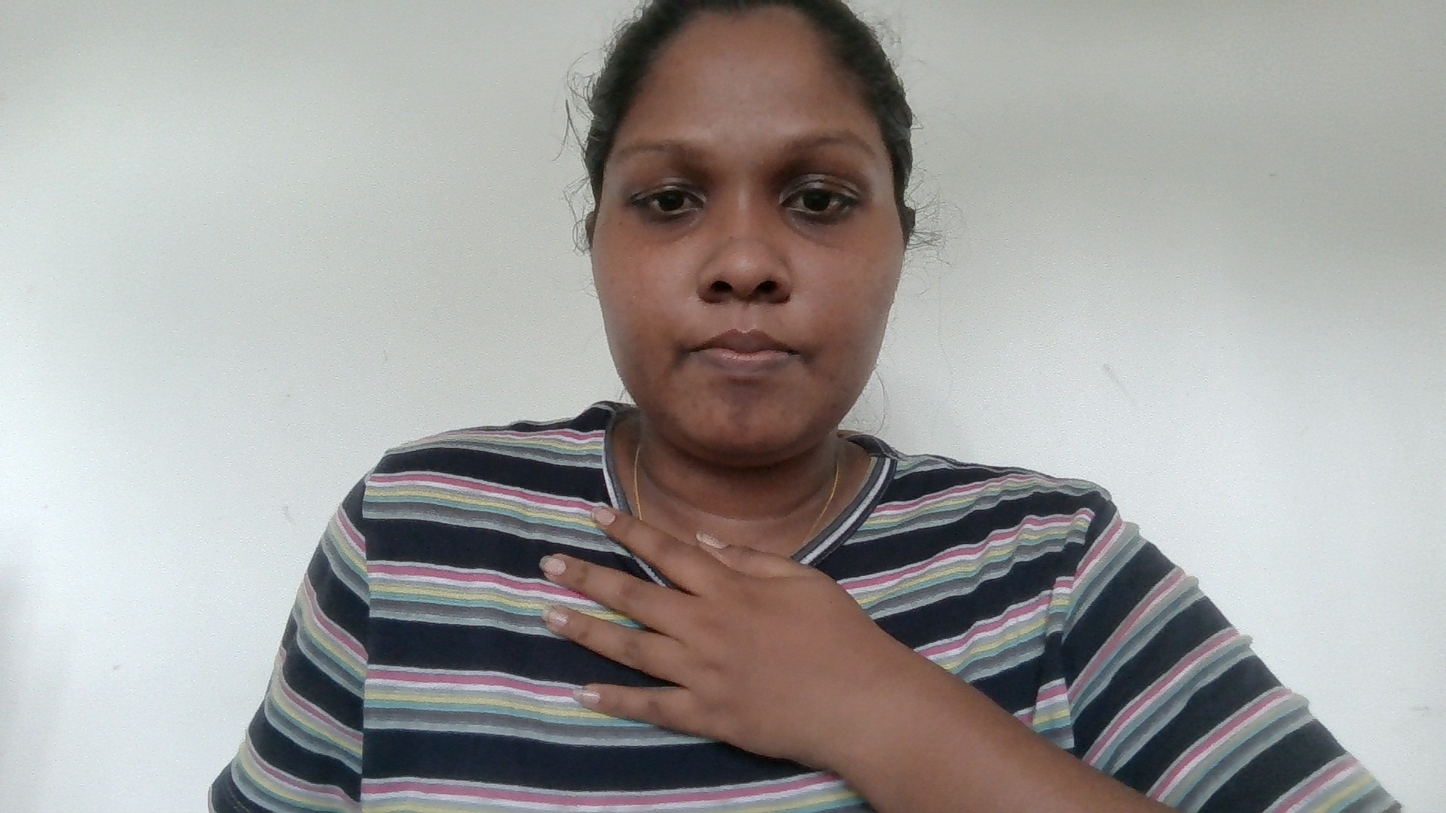Please: (505, 499, 929, 788)
